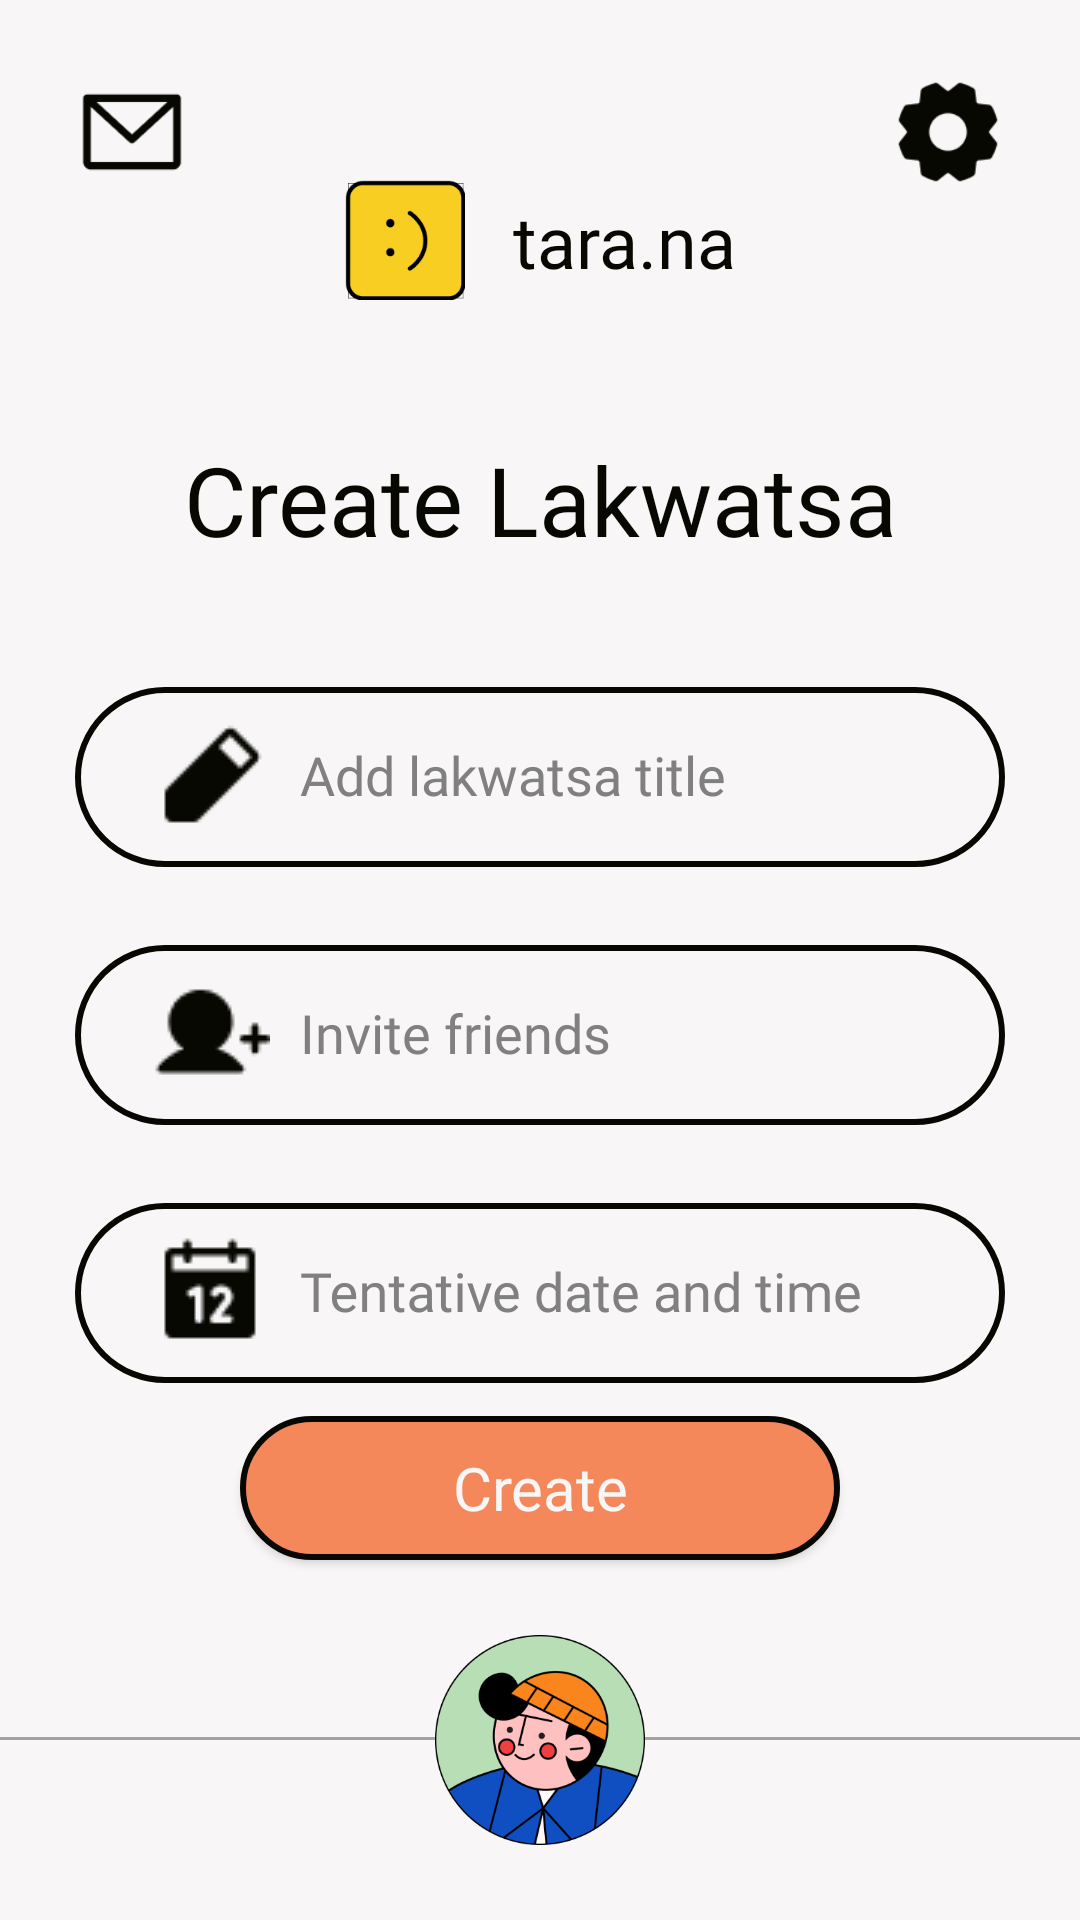

Where icons sit on this 1080 × 1920 app screen, as BBox(x1, y1, x2, y2):
inbox: BBox(82, 93, 182, 171)
profile: BBox(435, 1635, 645, 1845)
settings: BBox(898, 82, 998, 182)
